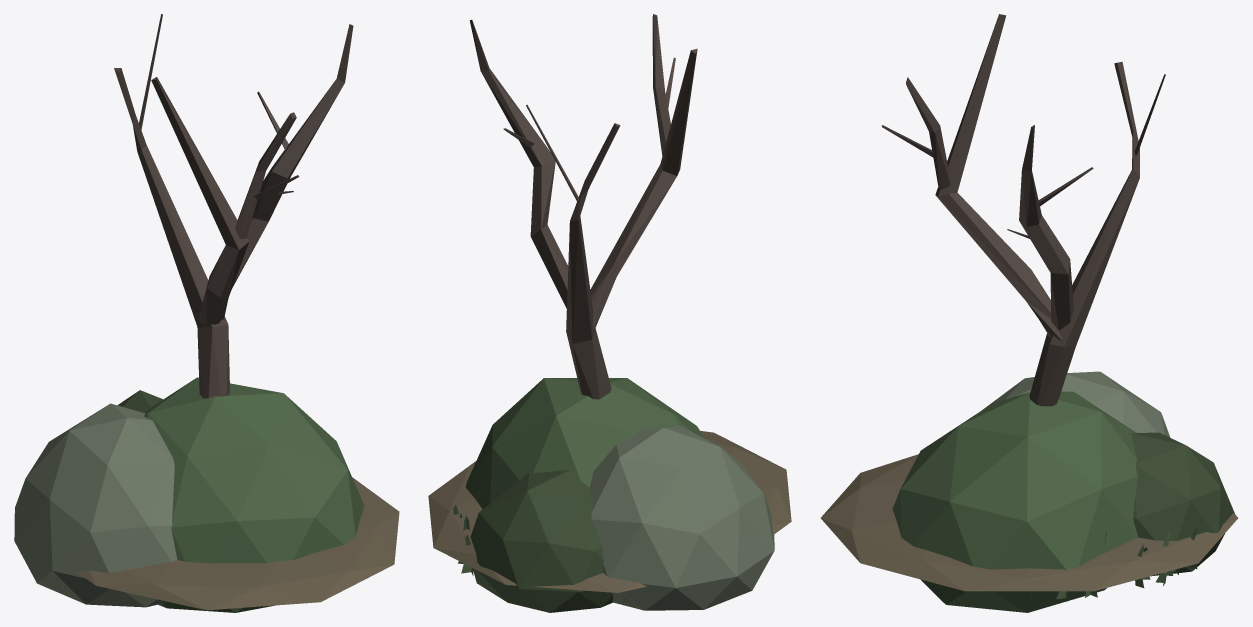
Rendered from NatureAssets.fbx.
The picture shows the model from 3 angles, left to right: view 1: azimuth 30°, elevation 25°; view 2: azimuth 150°, elevation 25°; view 3: azimuth 270°, elevation 25°; orthographic projection.
Visible parts, largest first — view 1: Bush, Dead Tree, Mud; view 2: Bush, Dead Tree, Mud; view 3: Bush, Dead Tree, Mud, Grass.
Part boxes in pixels (bbox=[...]): Bush: bbox=[14, 377, 364, 612]; Dead Tree: bbox=[114, 14, 353, 398]; Mud: bbox=[78, 477, 399, 610]; Bush: bbox=[466, 378, 774, 612]; Dead Tree: bbox=[469, 14, 697, 399]; Mud: bbox=[428, 431, 791, 592]; Bush: bbox=[892, 371, 1234, 612]; Dead Tree: bbox=[881, 14, 1165, 406]; Mud: bbox=[820, 454, 1238, 591]; Grass: bbox=[1031, 526, 1217, 601].
Bounding box in the file's own units: 232 × 363 × 268.
